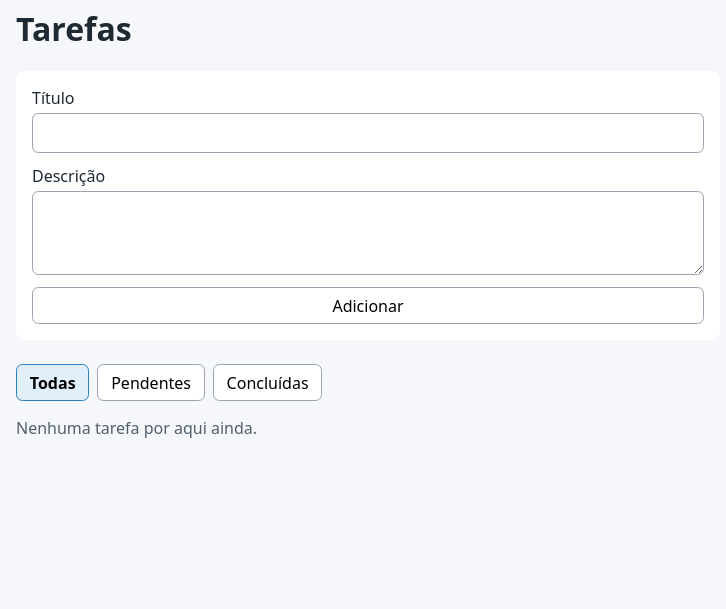
it: App › mostra o aviso amigável quando a prioridade veio do fallback
The width and height of the screenshot is (726, 609).
Expected: the text "Nenhuma tarefa por aqui ainda." is shown, x1=16 y1=417 x2=257 y2=439
Type "Corrigir bug" into the field labelled "Título" at (368, 133), box x1=32 y1=113 x2=704 y2=153
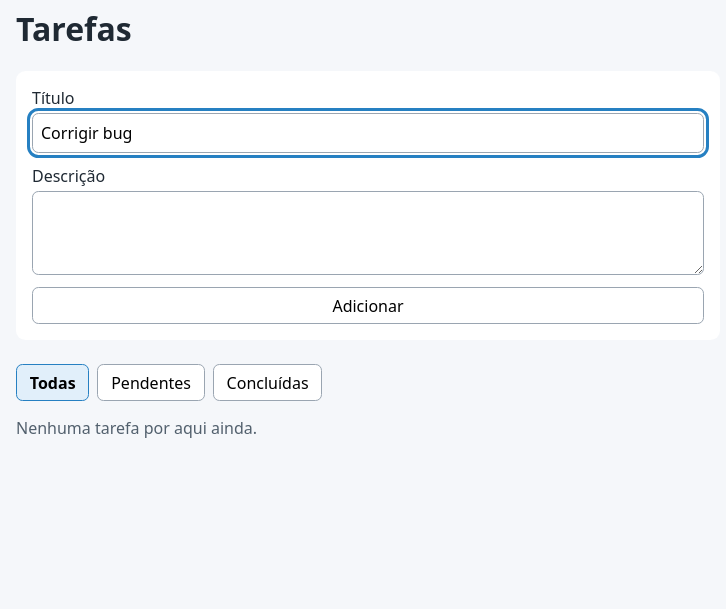
Click the button "Adicionar" at (368, 306), box x1=32 y1=287 x2=704 y2=324
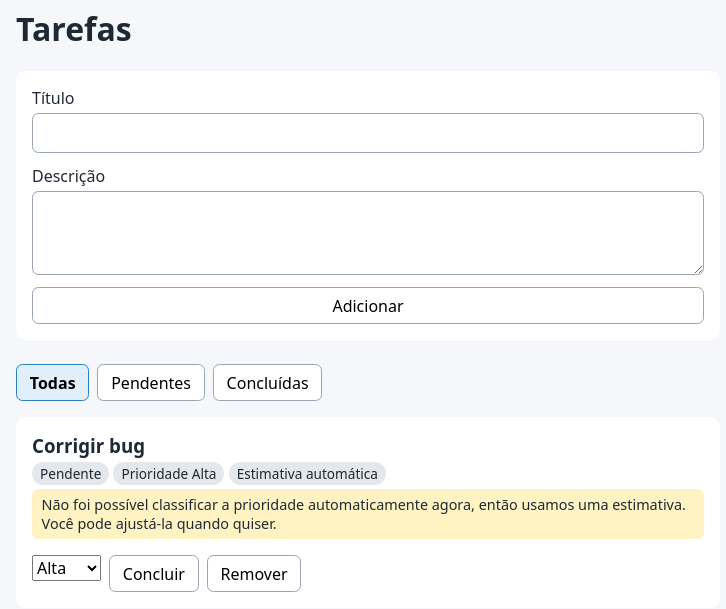
Expected: the text "Não foi possível classificar a prioridade automaticamente agora, então usamos uma estimativa. Você pode ajustá-la quando" is shown, x1=42 y1=495 x2=686 y2=533
Expected: the text "Estimativa automática" is shown, x1=229 y1=462 x2=386 y2=485
